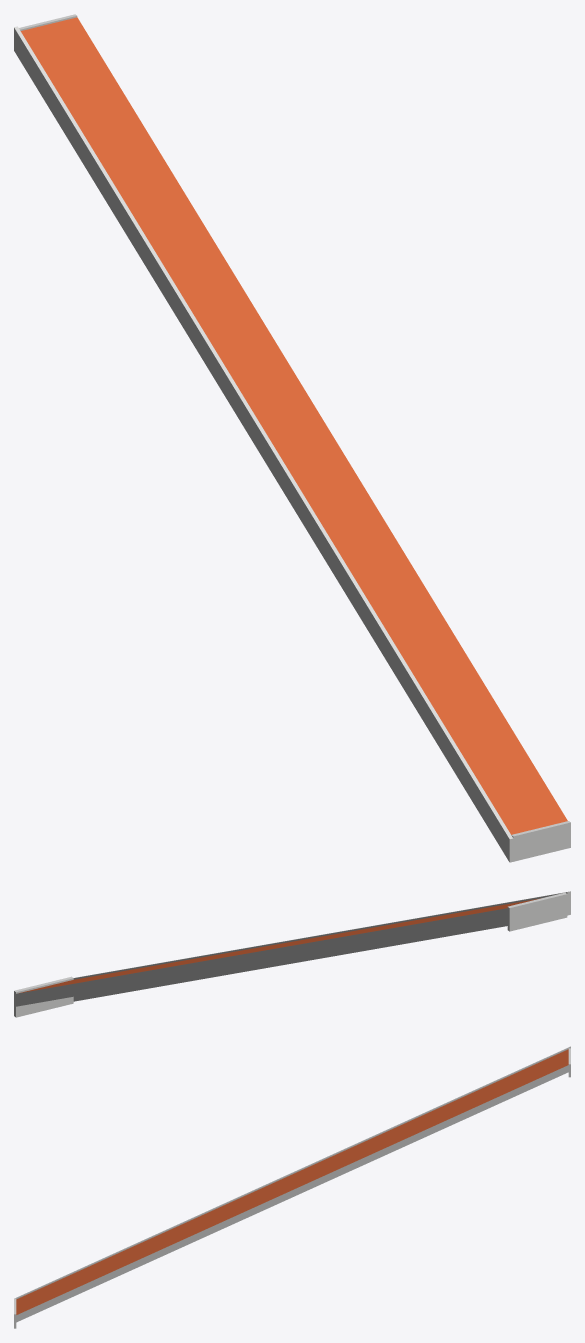
The model's file is telhado_meia_agua_empena_esq_v6_i50.glb.
The picture shows the model from 3 angles, top to bottom: view 1: azimuth 30°, elevation 25°; view 2: azimuth 210°, elevation 25°; view 3: azimuth 270°, elevation 25°; orthographic projection. The views are drawn at different scales.
Parts seen in each view (by area): view 1: telhado_meia_agua_empena_esq_v6_i50; view 2: telhado_meia_agua_empena_esq_v6_i50; view 3: telhado_meia_agua_empena_esq_v6_i50.
Part boxes in pixels (box(x1,y1,x2,y2)): telhado_meia_agua_empena_esq_v6_i50: box(14, 14, 570, 862); telhado_meia_agua_empena_esq_v6_i50: box(14, 891, 570, 1017); telhado_meia_agua_empena_esq_v6_i50: box(14, 1046, 570, 1328).
Size of the model in its own units: 0.5 by 3.68 by 7.
